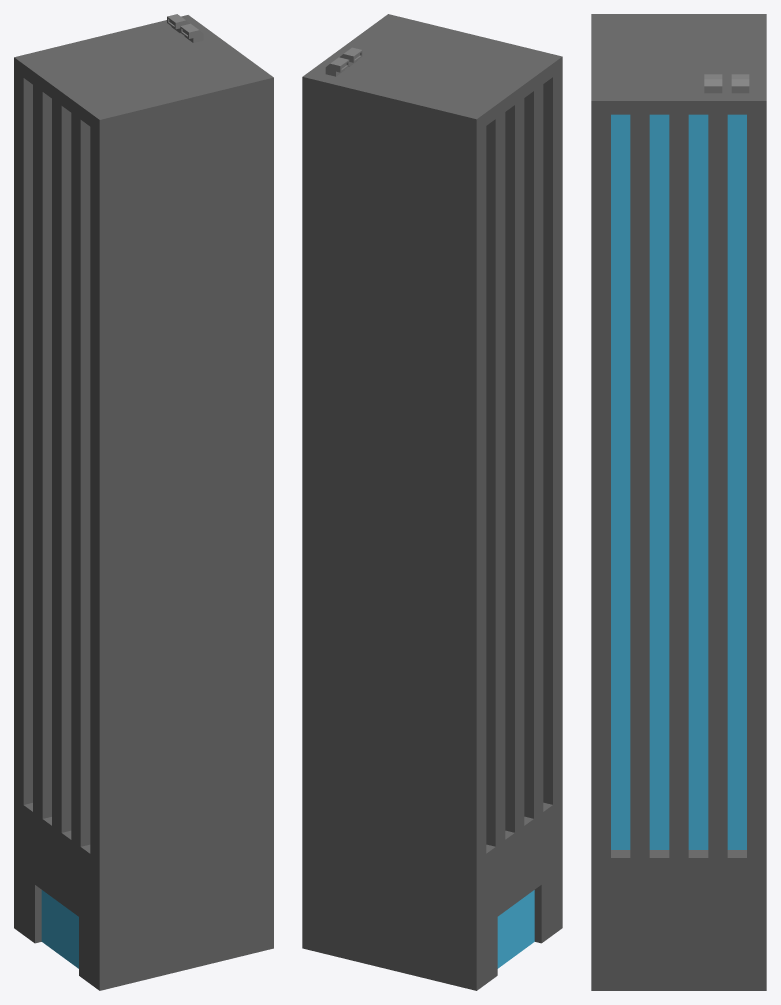
Rendered from Skyscraper_05.fbx.
3 renders of one model, left to right at view 1: azimuth 30°, elevation 25°; view 2: azimuth 150°, elevation 25°; view 3: azimuth 270°, elevation 25°, orthographic. The views are drawn at different scales.
Visible parts, largest first — view 1: Skyscraper_05; view 2: Skyscraper_05; view 3: Skyscraper_05.
Part boxes in pixels (bbox=[...]): Skyscraper_05: bbox=[14, 14, 273, 990]; Skyscraper_05: bbox=[302, 14, 562, 990]; Skyscraper_05: bbox=[591, 14, 766, 990].
Size of the model in its own units: 21.83 by 106 by 18.61.
